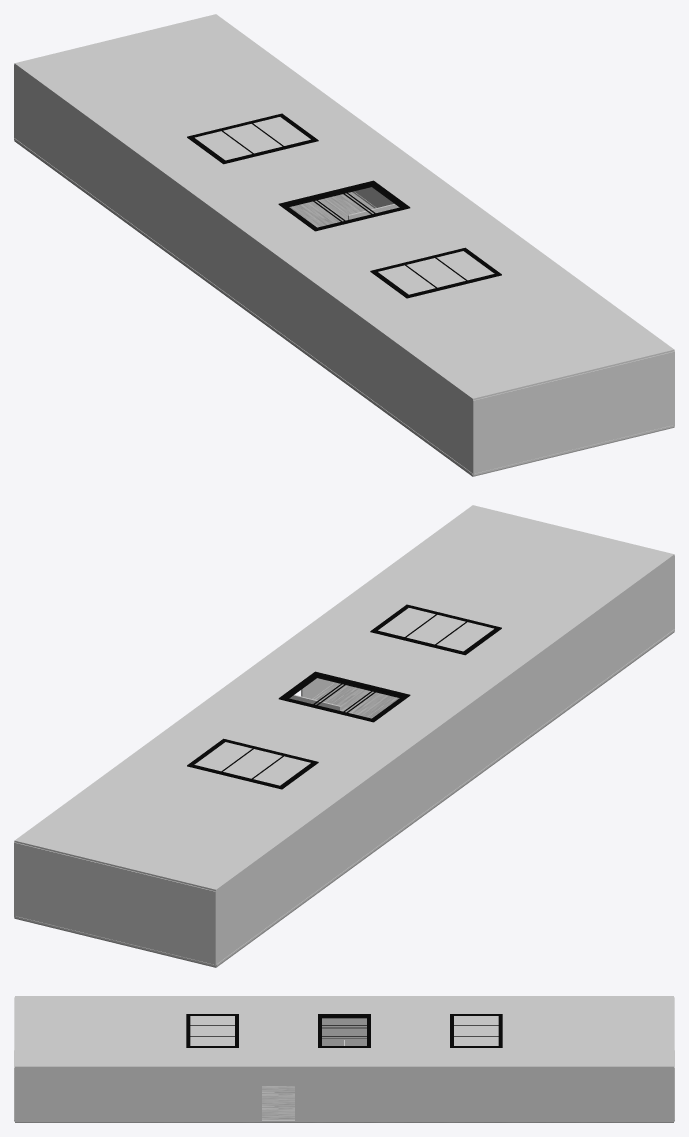
The model's file is room2.glb.
3 views of the same model, one above another, from view 1: azimuth 30°, elevation 25°; view 2: azimuth 150°, elevation 25°; view 3: azimuth 270°, elevation 25° (orthographic). The views are drawn at different scales.
Visible parts, largest first — view 1: Cube.005, Cube.003, Cube, Cube.004, Cube.007, Cube.011, Cube.009, Cube.008; view 2: Cube.005, Cube.003, Cube.001, Cube.004, Cube.007, Cube.011, Cube.008, Cube.009; view 3: Cube.005, Cube.002, Cube.004, Cube.010, Cube.003, Cube.007, Cube.008, Cube.009.
Part boxes in pixels (x1,y1,x2,y2): Cube.005: (14,14,674,400); Cube.003: (14,65,474,475); Cube: (475,351,673,473); Cube.004: (14,140,674,476); Cube.007: (278,180,410,231); Cube.011: (14,138,472,475); Cube.009: (370,247,501,298); Cube.008: (187,113,318,164); Cube.005: (14,505,674,891); Cube.003: (214,556,674,966); Cube.001: (15,842,213,964); Cube.004: (14,631,674,967); Cube.007: (278,671,410,722); Cube.011: (216,629,674,966); Cube.008: (187,738,318,789); Cube.009: (370,604,501,655); Cube.005: (15,996,673,1067); Cube.002: (14,1067,674,1121); Cube.004: (15,1086,673,1122); Cube.010: (15,1120,673,1121); Cube.003: (14,997,674,1045); Cube.007: (318,1014,370,1047); Cube.008: (450,1014,502,1047); Cube.009: (186,1014,238,1047).
Size of the model in its own units: 12.75 by 4.75 by 50.15.
Materials: 3 (1 with a texture image).
